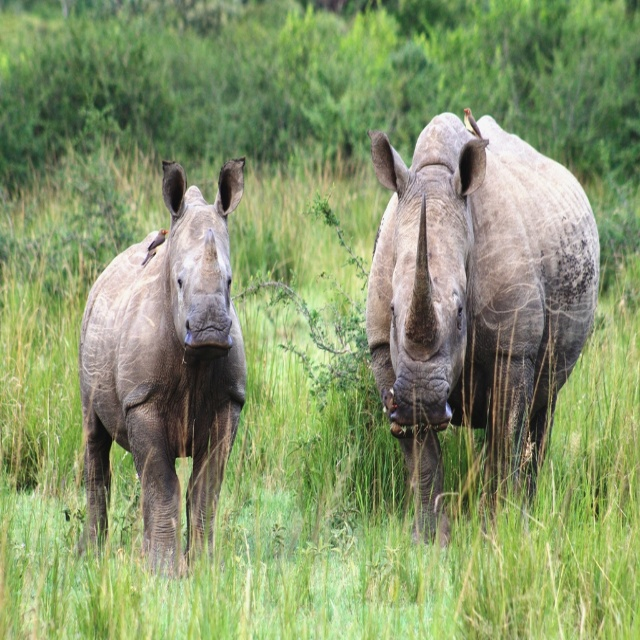Rhinoceros: (367, 112, 600, 549), (73, 156, 247, 581)
